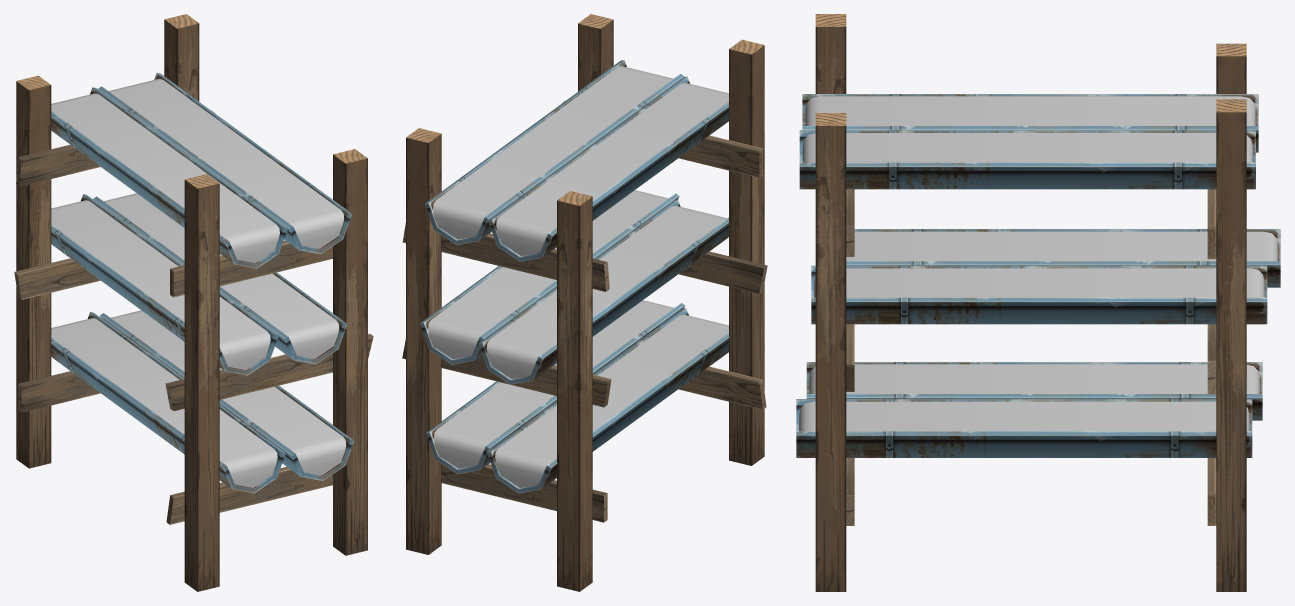
Rendered from gutterPlanter04.fbx.
3 views of the same model, side by side, from view 1: azimuth 30°, elevation 25°; view 2: azimuth 150°, elevation 25°; view 3: azimuth 270°, elevation 25° (orthographic). The views are drawn at different scales.
Parts seen in each view (by area): view 1: gutterPlanter04; view 2: gutterPlanter04; view 3: gutterPlanter04.
Part boxes in pixels (bbox=[...]): gutterPlanter04: bbox=[14, 14, 373, 591]; gutterPlanter04: bbox=[402, 14, 767, 591]; gutterPlanter04: bbox=[796, 14, 1280, 591].
Bounding box in the file's own units: 97.7 × 184 × 169.
